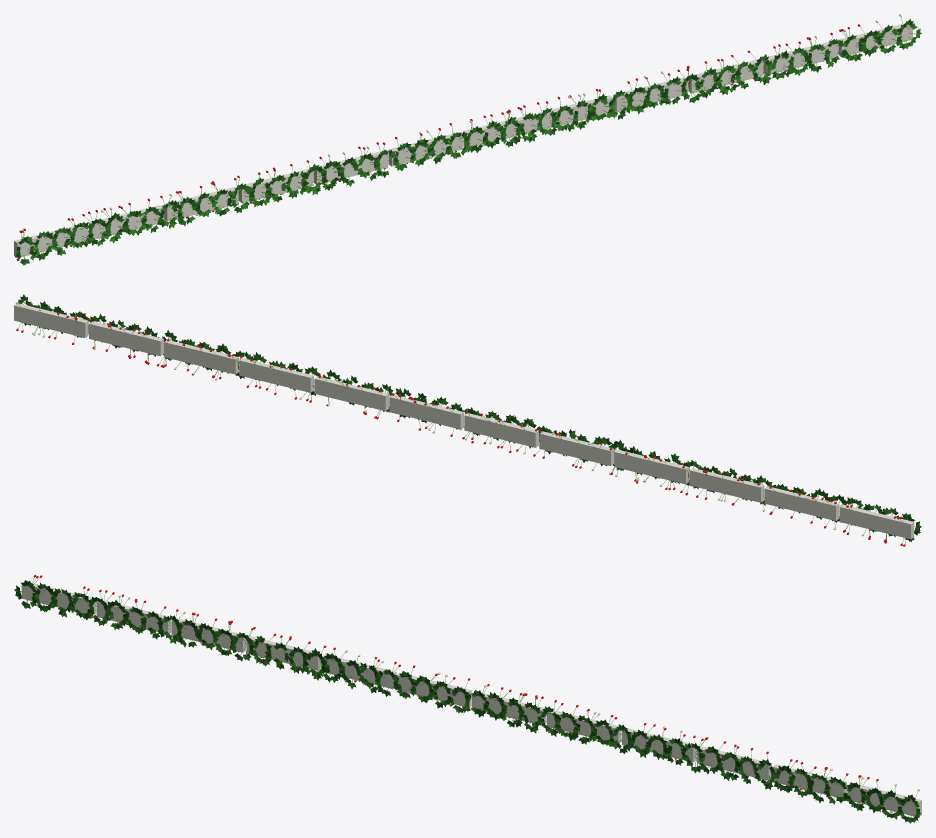
File: row28.obj
3 renders of one model, top to bottom at view 1: azimuth 30°, elevation 25°; view 2: azimuth 150°, elevation 25°; view 3: azimuth 330°, elevation 25°, orthographic.
Parts seen in each view (by area): view 1: row28; view 2: row28; view 3: row28.
Part boxes in pixels (<box>): row28: <box>14,14,921,265</box>; row28: <box>14,294,921,546</box>; row28: <box>14,575,921,823</box>.
Size of the model in its own units: 12.6 by 0.4341 by 0.2703.
